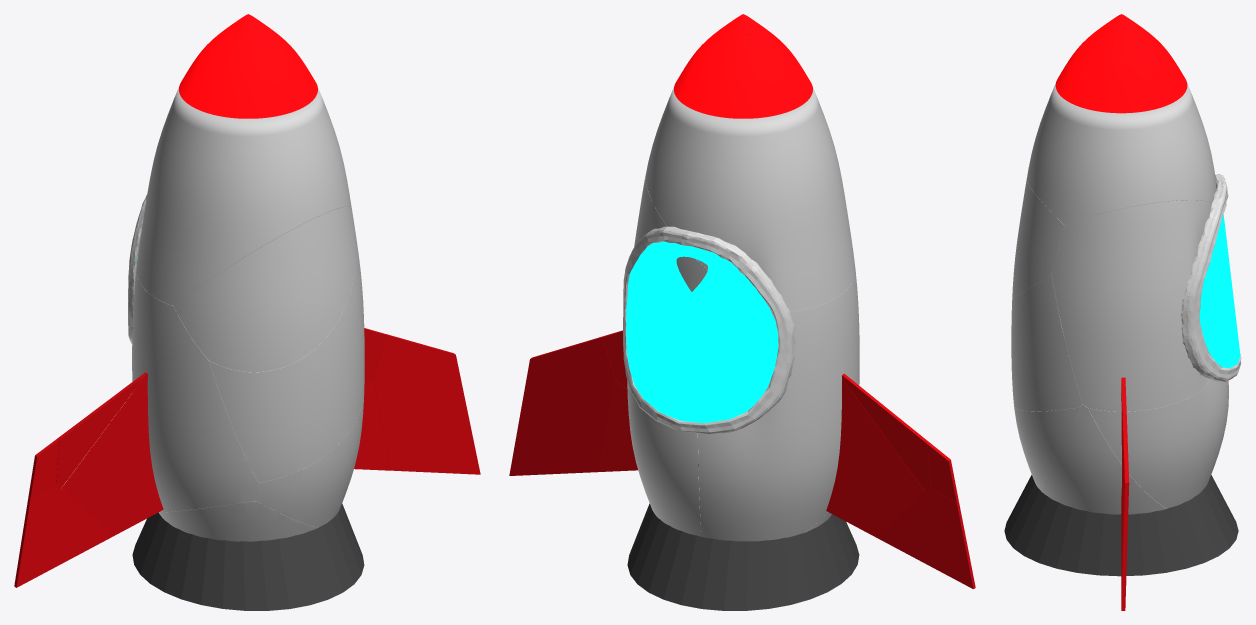
The model's file is BrokenRocket.fbx.
3 views of the same model, side by side, from view 1: azimuth 30°, elevation 25°; view 2: azimuth 150°, elevation 25°; view 3: azimuth 270°, elevation 25° (orthographic). The views are drawn at different scales.
Visible parts, largest first — view 1: body_cell.008, body_cell.007, body_cell.002, engine, body_cell.004, hane_cell.004, hane_cell, hane_cell.006, body_cell.003, danto_cell.006, body_cell.006, hane_cell.002 (+9 smaller); view 2: body_cell.008, body_cell.002, mad2, engine, hane_cell.004, hane_cell, mad1, body_cell.001, hane_cell.006, danto_cell.005, hane_cell.002, danto_cell.001 (+7 smaller); view 3: body_cell, body_cell.008, engine, body_cell.001, body_cell.004, body_cell.009, mad1, mad2, body_cell.007, body_cell.003, danto_cell, danto_cell.009 (+5 smaller).
Boxes of the visible parts, box(x1,y1,x2,y2) form: body_cell.008: box(136, 87, 349, 305); body_cell.007: box(173, 206, 355, 372); body_cell.002: box(132, 271, 258, 512); engine: box(132, 503, 364, 610); body_cell.004: box(209, 264, 364, 482); hane_cell.004: box(373, 334, 480, 474); hane_cell: box(61, 373, 163, 536); hane_cell.006: box(14, 486, 112, 587); body_cell.003: box(256, 393, 364, 527); danto_cell.006: box(198, 29, 279, 118); body_cell.006: box(158, 501, 317, 541); hane_cell.002: box(56, 372, 146, 487); body_cell.008: box(645, 87, 853, 311); body_cell.002: box(698, 281, 859, 541); mad2: box(626, 241, 778, 422); engine: box(627, 464, 859, 610); hane_cell.004: box(509, 336, 615, 475); hane_cell: box(826, 373, 925, 537); mad1: box(623, 226, 795, 433); body_cell.001: box(627, 384, 700, 536); hane_cell.006: box(877, 489, 975, 589); danto_cell.005: box(724, 58, 809, 118); hane_cell.002: box(842, 374, 931, 491); danto_cell.001: box(692, 34, 768, 94); body_cell: box(1051, 200, 1219, 411); body_cell.008: box(1026, 83, 1216, 224); engine: box(1004, 475, 1238, 576); body_cell.001: box(1088, 366, 1228, 508); body_cell.004: box(1011, 273, 1082, 411); body_cell.009: box(1044, 405, 1166, 514); mad1: box(1180, 174, 1241, 381); mad2: box(1199, 214, 1240, 368); body_cell.007: box(1012, 180, 1064, 297); body_cell.003: box(1014, 406, 1078, 493); danto_cell: box(1056, 65, 1155, 113); danto_cell.009: box(1074, 43, 1153, 85).
Size of the model in its own units: 719 by 809 by 336.
